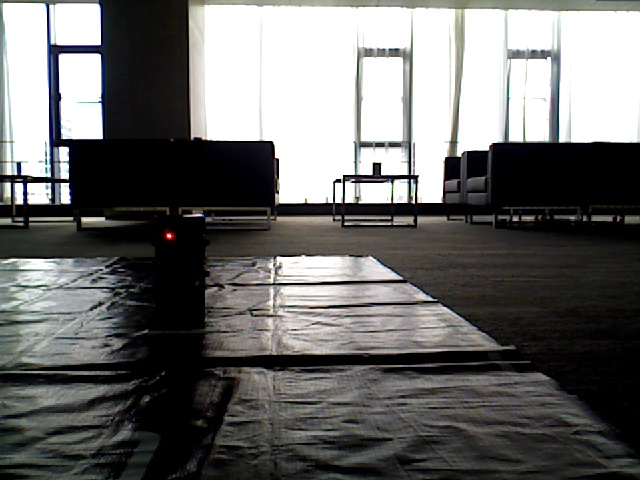red: (151, 211, 202, 315)
